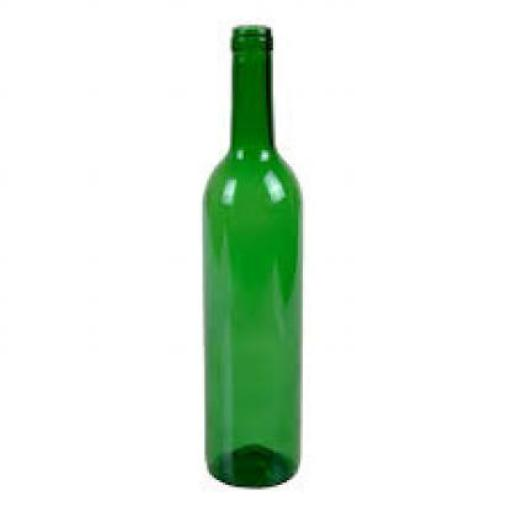glass: (200, 22, 302, 485)
